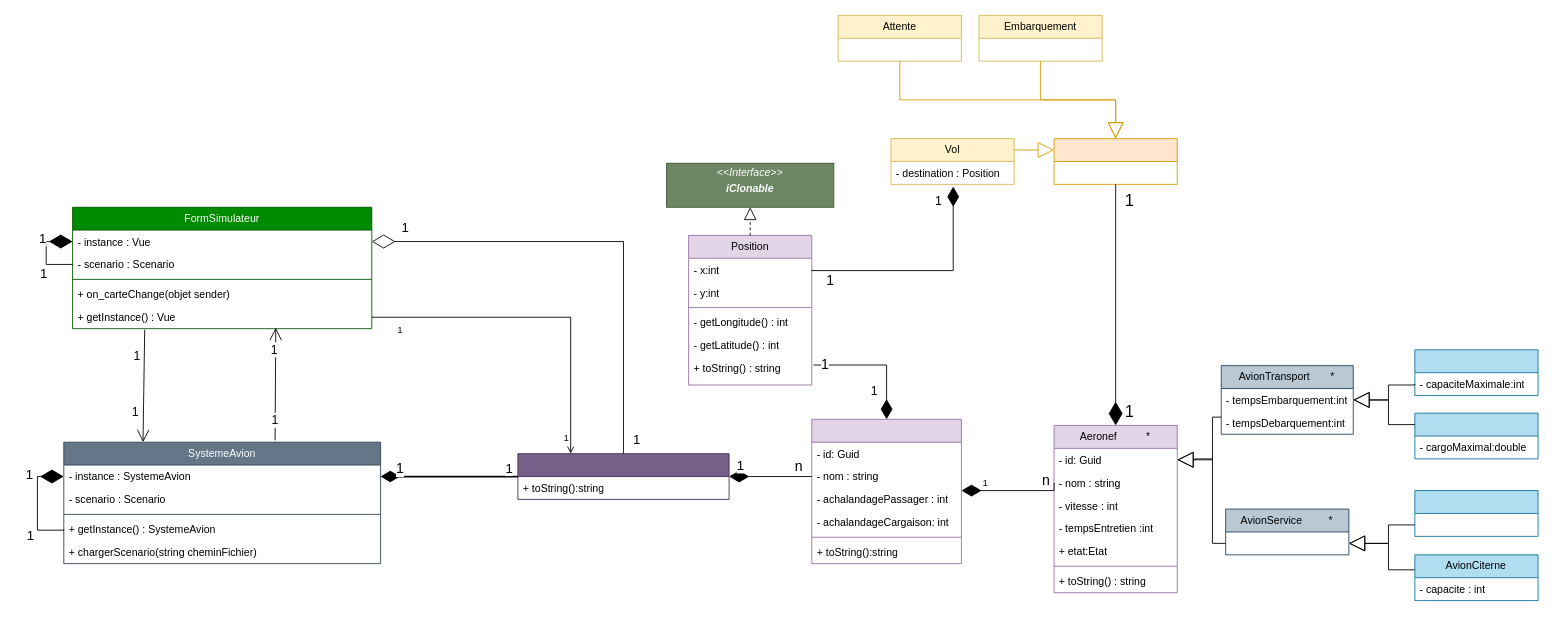
Image size: 1554x619. Some labels were removed from this diagram. Here are the shapes that lost their labels. From the top down, the box of each, then its label:
(1053, 138, 1177, 184): Etat *
(1414, 349, 1538, 396): AvionPassager
(1414, 412, 1538, 459): AvionCargaison
(517, 453, 729, 499): Scenario
(811, 418, 961, 564): Aeroport
(1414, 490, 1538, 536): AvionSecours
